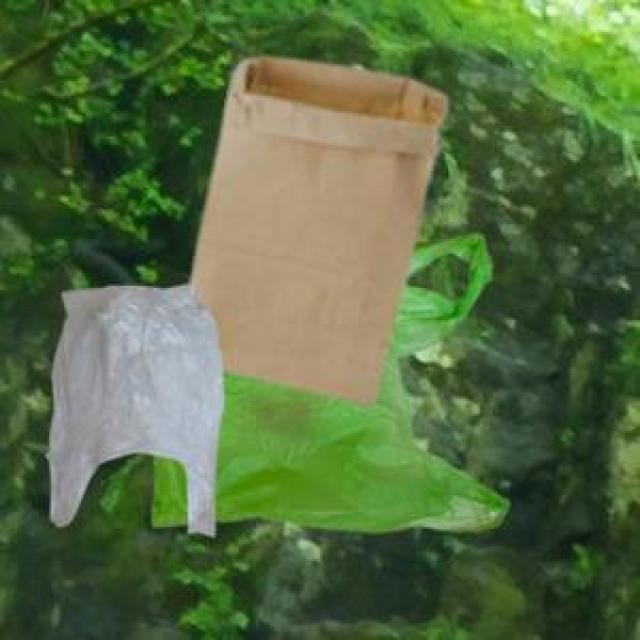paper: (188, 53, 442, 401)
